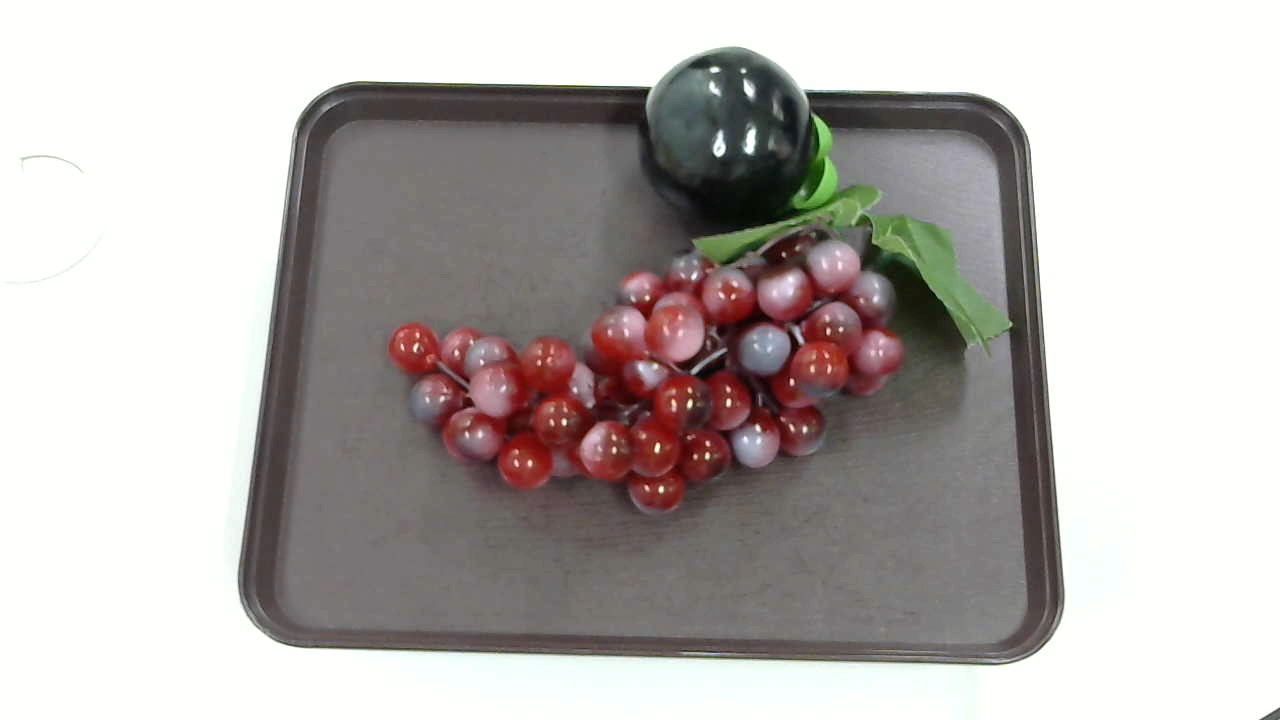grape: (381, 193, 1015, 519)
mangosteen: (637, 46, 837, 224)
